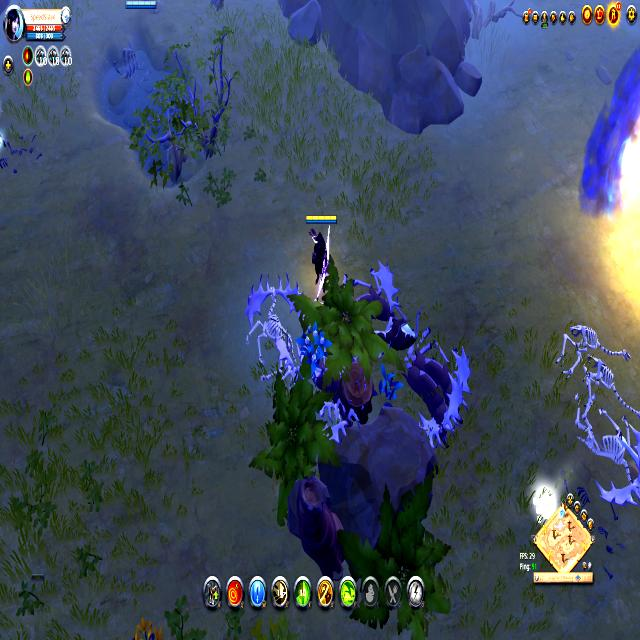hide: (299, 319, 330, 376)
mob: (400, 339, 478, 457), (353, 262, 422, 352)
red: (304, 211, 337, 296), (123, 1, 158, 12)
stone: (532, 484, 558, 530)
